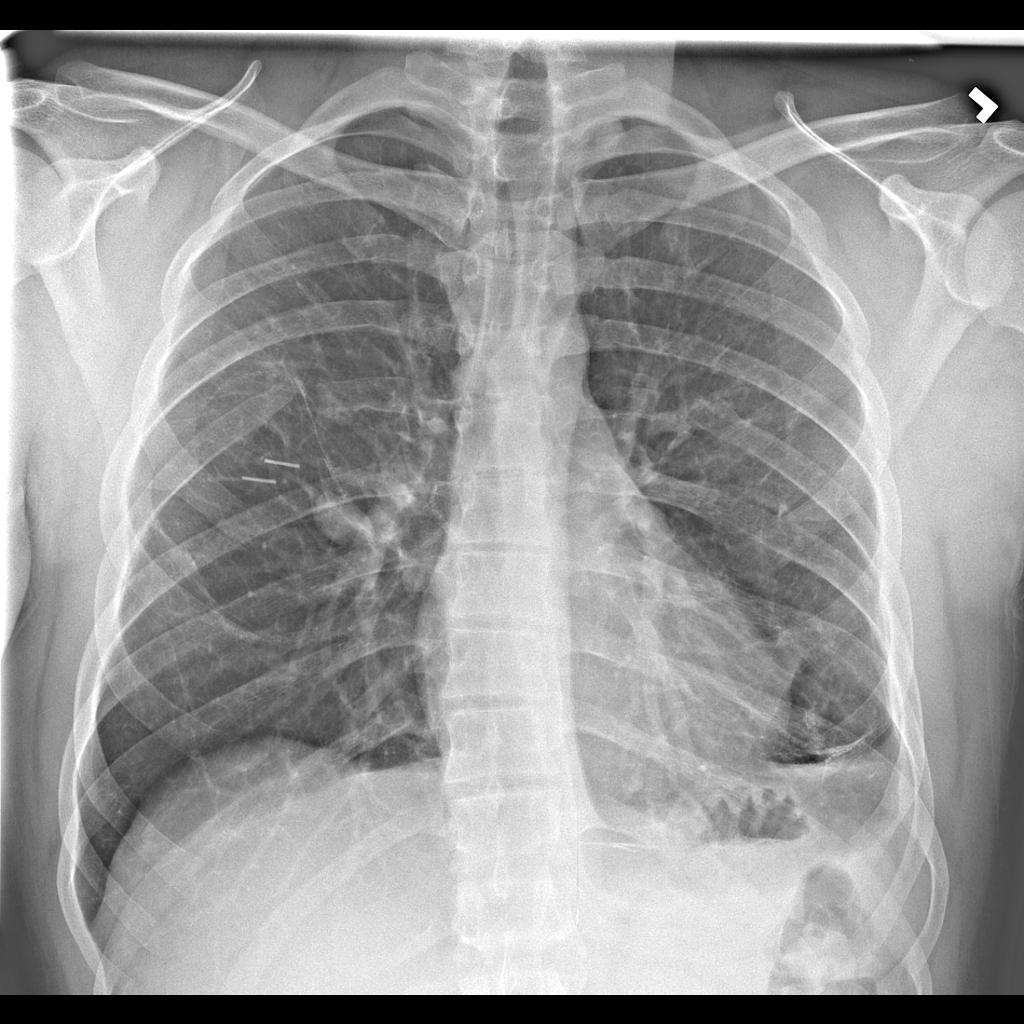Nodule: (303, 488, 370, 550)
